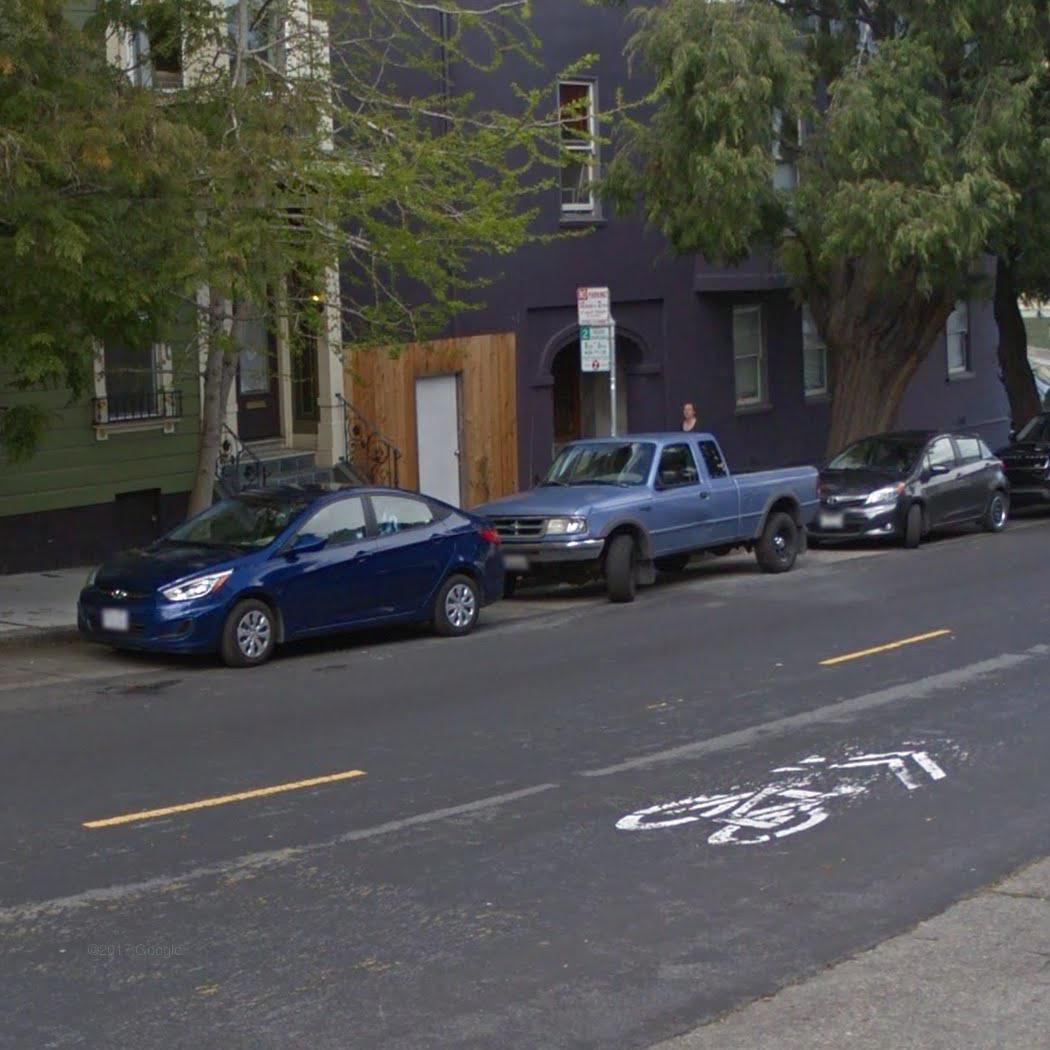2 Hour Parking: (577, 325, 613, 373)
No Parking: (575, 284, 612, 327)
